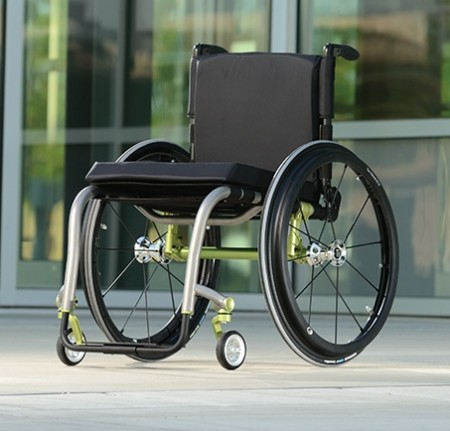wheelchair: (48, 35, 406, 375)
